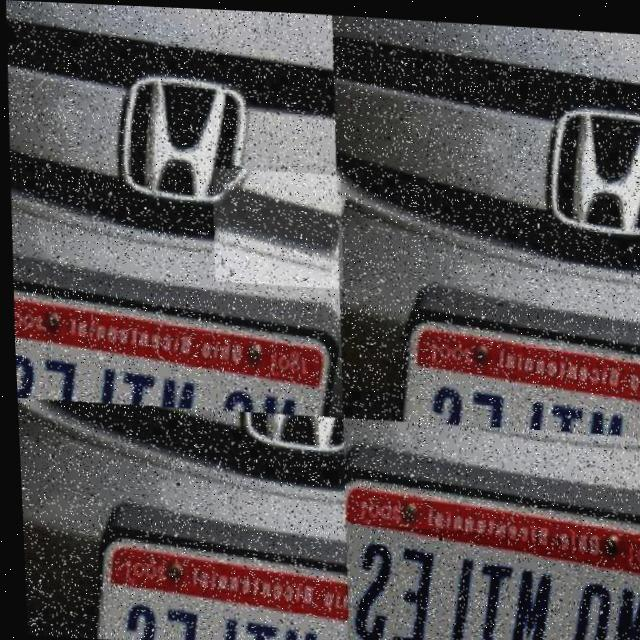LicensePlate: (337, 520, 640, 640), (209, 166, 343, 286)
